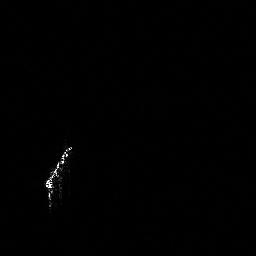ship: (40, 143, 76, 210)
